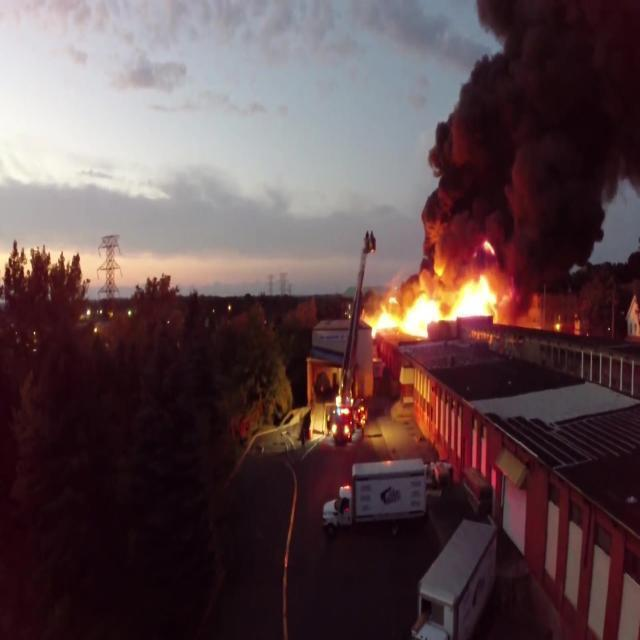Fire: (431, 282, 492, 319), (374, 301, 427, 342)
Smoke: (513, 5, 629, 198)
